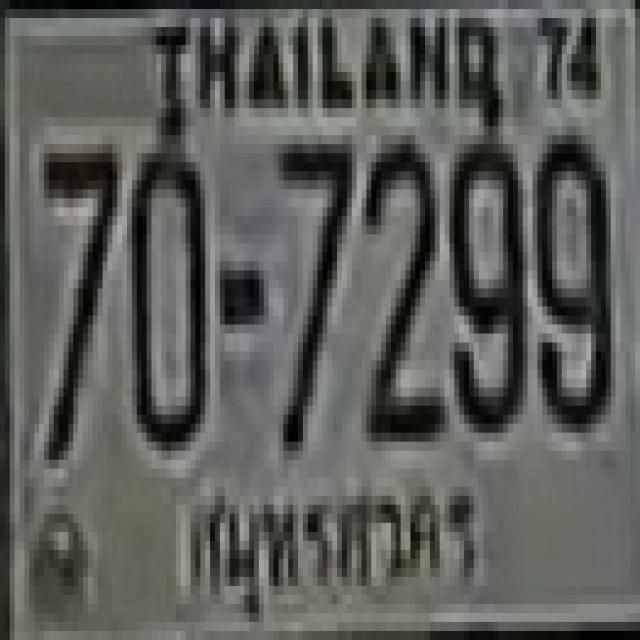0: (127, 135, 205, 442)
2: (364, 135, 437, 433)
7: (39, 140, 112, 455), (276, 135, 349, 442)
9: (444, 135, 522, 424), (532, 126, 606, 424)
SKN: (177, 456, 489, 608)
